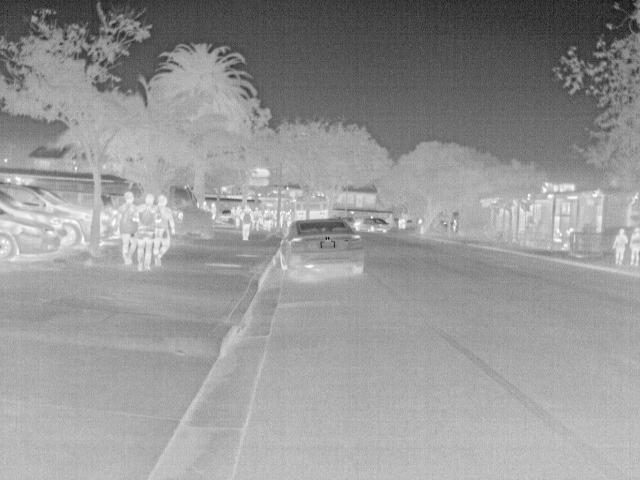car: (2, 181, 95, 250), (276, 218, 368, 276), (2, 207, 62, 264), (359, 216, 392, 234), (221, 209, 236, 222)
person: (130, 194, 161, 273), (116, 192, 140, 266), (157, 192, 178, 258), (612, 228, 630, 262), (238, 207, 254, 243), (626, 226, 639, 265), (249, 206, 263, 232), (262, 209, 275, 231), (209, 198, 222, 218), (551, 226, 567, 242)
